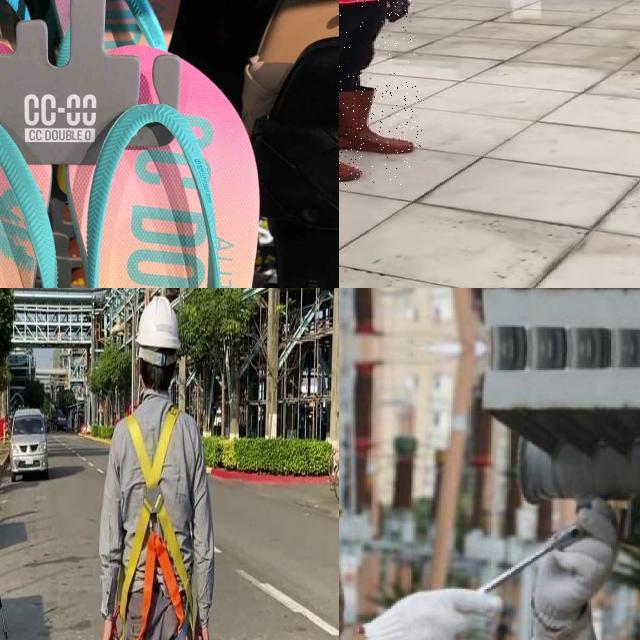Harness: (107, 400, 202, 640)
Sandals: (0, 0, 297, 288)
boots: (339, 85, 422, 153), (339, 103, 363, 183)
hand_glove: (535, 510, 618, 630), (364, 589, 500, 640)
